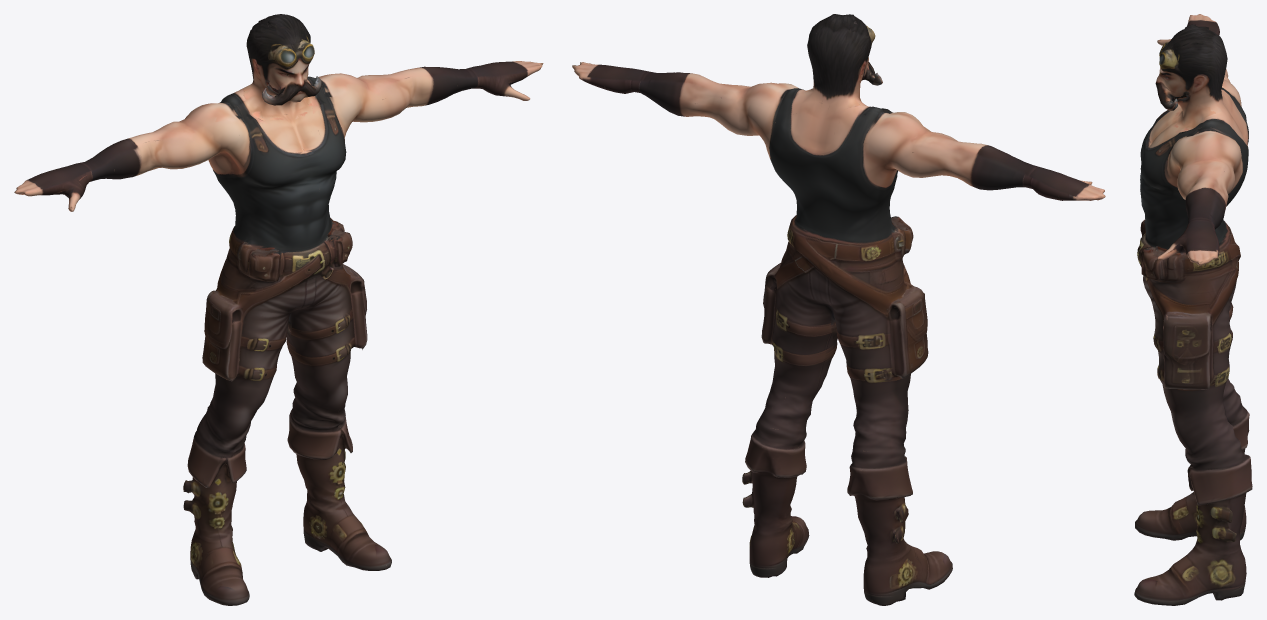
The model's file is Meshy_AI_Steampunk_Strongman_0107013149_texture.fbx.
The picture shows the model from 3 angles, left to right: view 1: azimuth 30°, elevation 25°; view 2: azimuth 150°, elevation 25°; view 3: azimuth 270°, elevation 25°; orthographic projection. The views are drawn at different scales.
Parts seen in each view (by area): view 1: Mesh0; view 2: Mesh0; view 3: Mesh0.
Boxes of the visible parts, <box> form: Mesh0: <box>14,14,543,605</box>; Mesh0: <box>572,14,1105,605</box>; Mesh0: <box>1134,14,1252,605</box>.
Size of the model in its own units: 190 by 190 by 37.92.
Materials: 1 (1 with a texture image).
